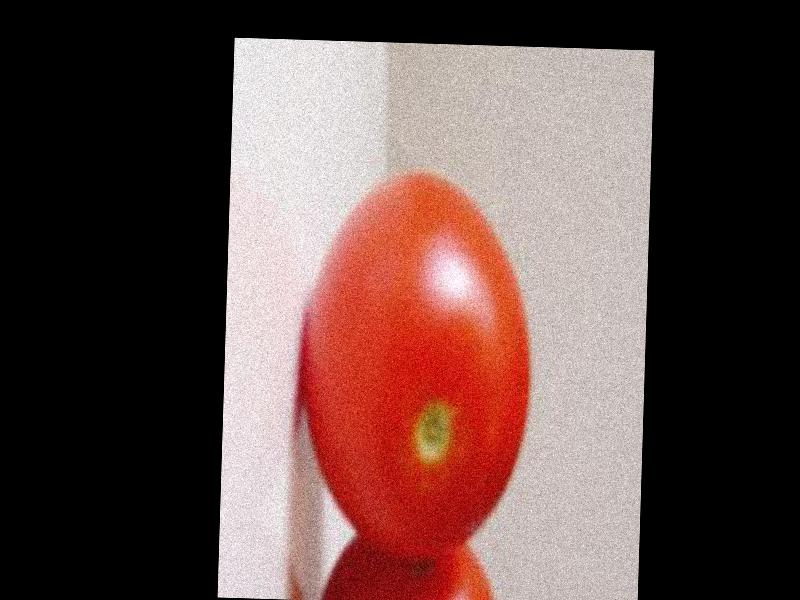Tomato: (299, 169, 536, 557)
